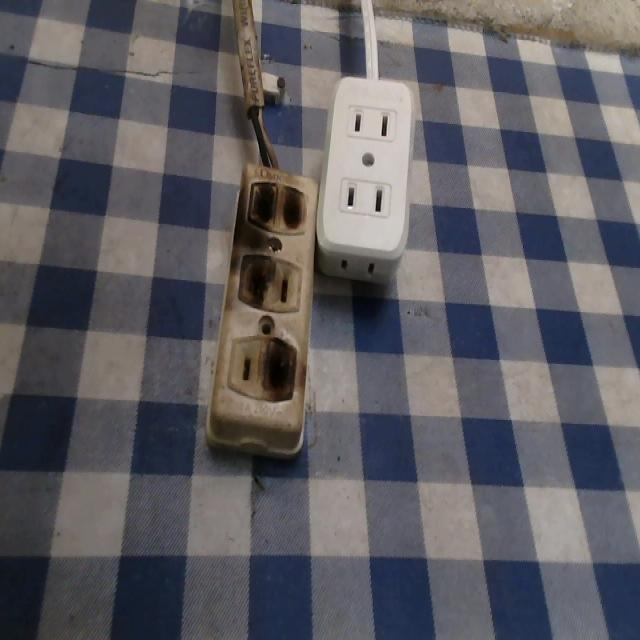-: (241, 170, 318, 233), (259, 331, 303, 404), (230, 252, 280, 313)
